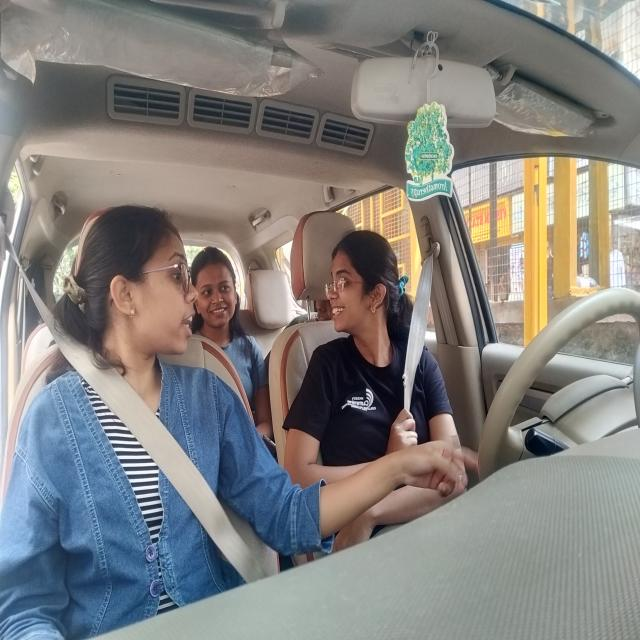LeftRight: (320, 214, 412, 373)
person: (64, 200, 203, 377), (191, 233, 242, 346)
talking: (171, 301, 201, 351), (319, 303, 354, 323)
